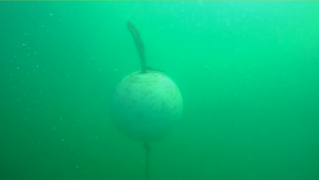buoy: (109, 70, 183, 142)
